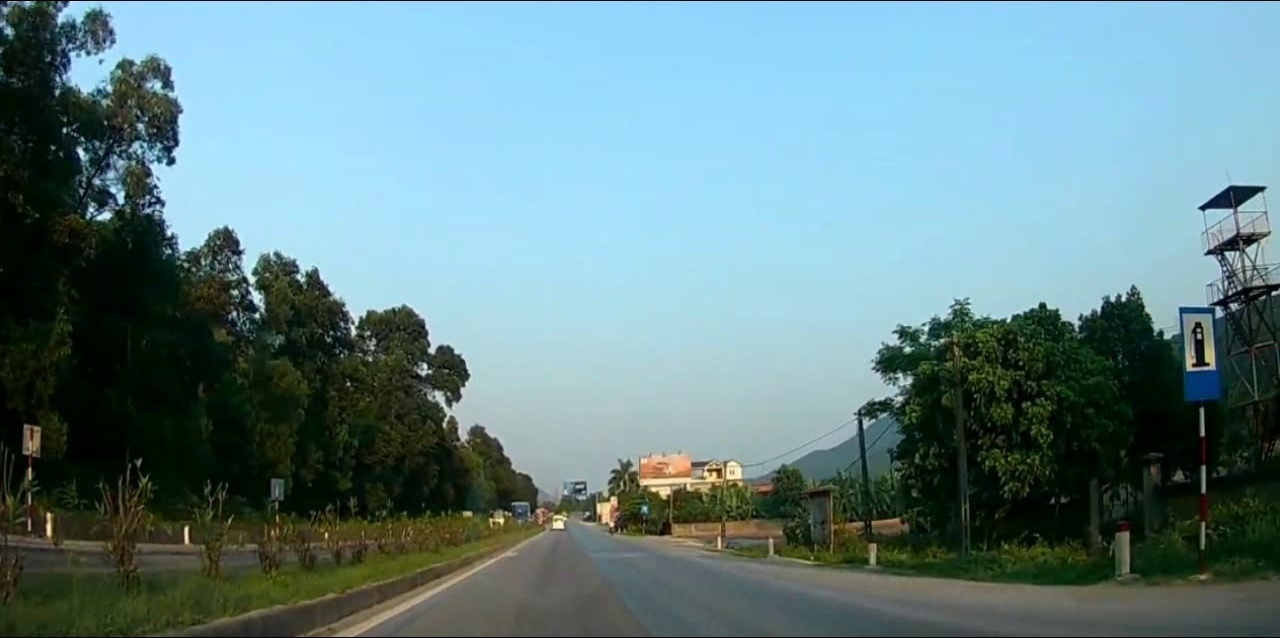Bien khac: (1176, 305, 1224, 404)
